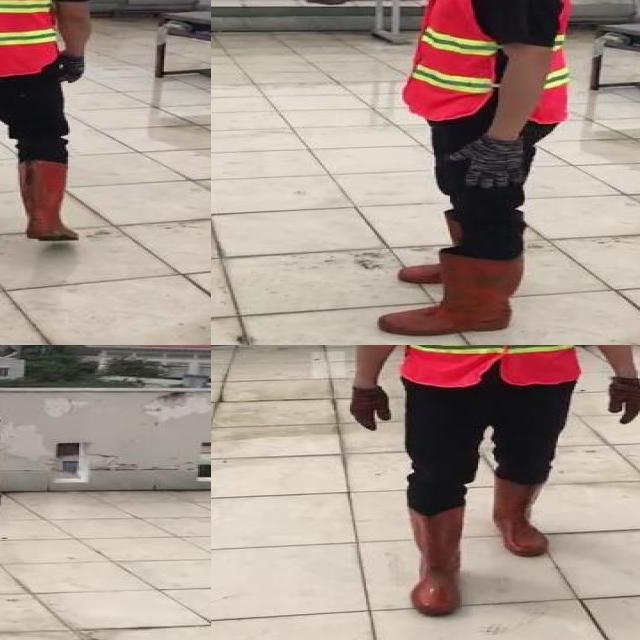boots: (377, 250, 521, 335), (401, 505, 471, 614), (11, 156, 91, 241), (488, 474, 552, 556)
hand_glove: (448, 136, 526, 190), (348, 387, 393, 428), (606, 378, 640, 425), (57, 51, 84, 85)
person: (334, 345, 640, 626), (343, 0, 579, 345), (0, 0, 110, 249)
vest: (403, 0, 567, 128), (405, 345, 577, 387)
